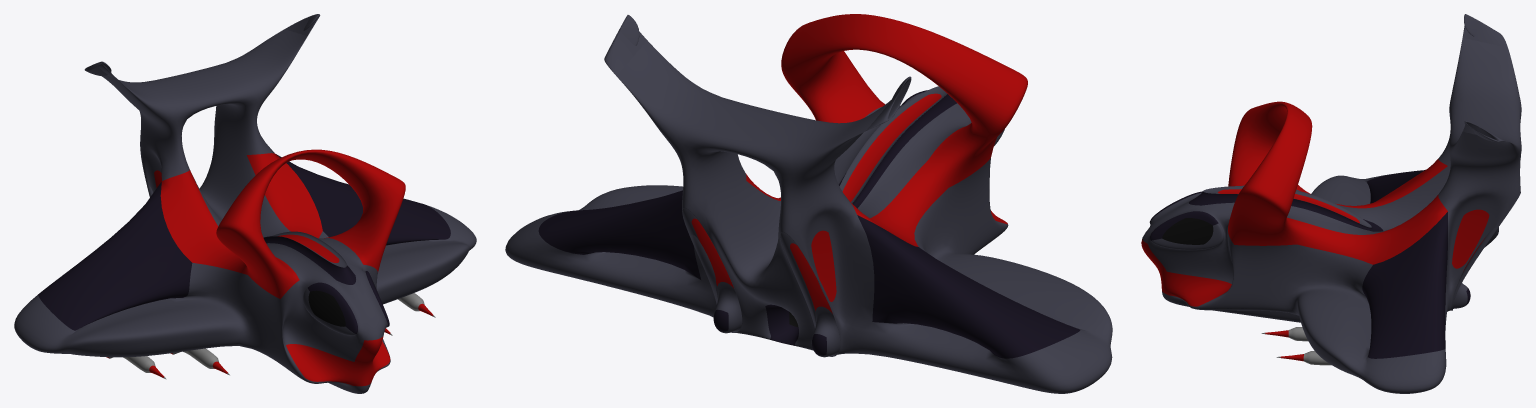
File: Hero_2_Ship.fbx
3 renders of one model, left to right at view 1: azimuth 30°, elevation 25°; view 2: azimuth 150°, elevation 25°; view 3: azimuth 270°, elevation 25°, orthographic. The views are drawn at different scales.
Parts seen in each view (by area): view 1: Box001, Cylinder003, Cylinder004; view 2: Box001; view 3: Box001, Cylinder002, Cylinder001.
Boxes of the visible parts, x1=… form: Box001: x1=14, y1=14, x2=476, y2=393; Cylinder003: x1=170, y1=348, x2=229, y2=375; Cylinder004: x1=106, y1=356, x2=166, y2=379; Box001: x1=505, y1=14, x2=1112, y2=393; Box001: x1=1141, y1=14, x2=1521, y2=393; Cylinder002: x1=1276, y1=351, x2=1331, y2=365; Cylinder001: x1=1261, y1=327, x2=1307, y2=341.
Size of the model in its own units: 133 by 77.7 by 102.
